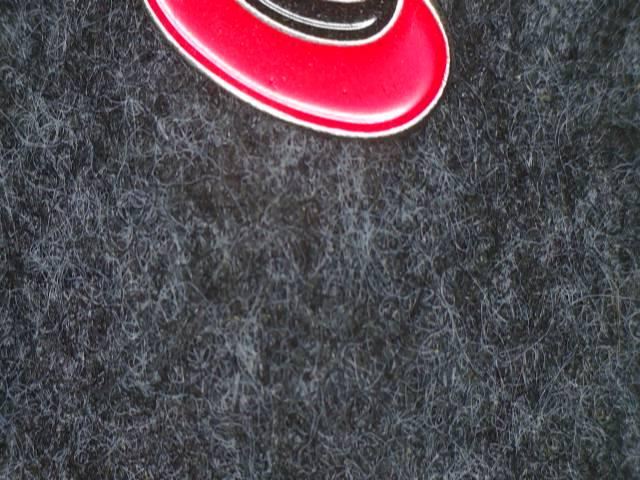Red-Hat: (113, 0, 466, 172)
